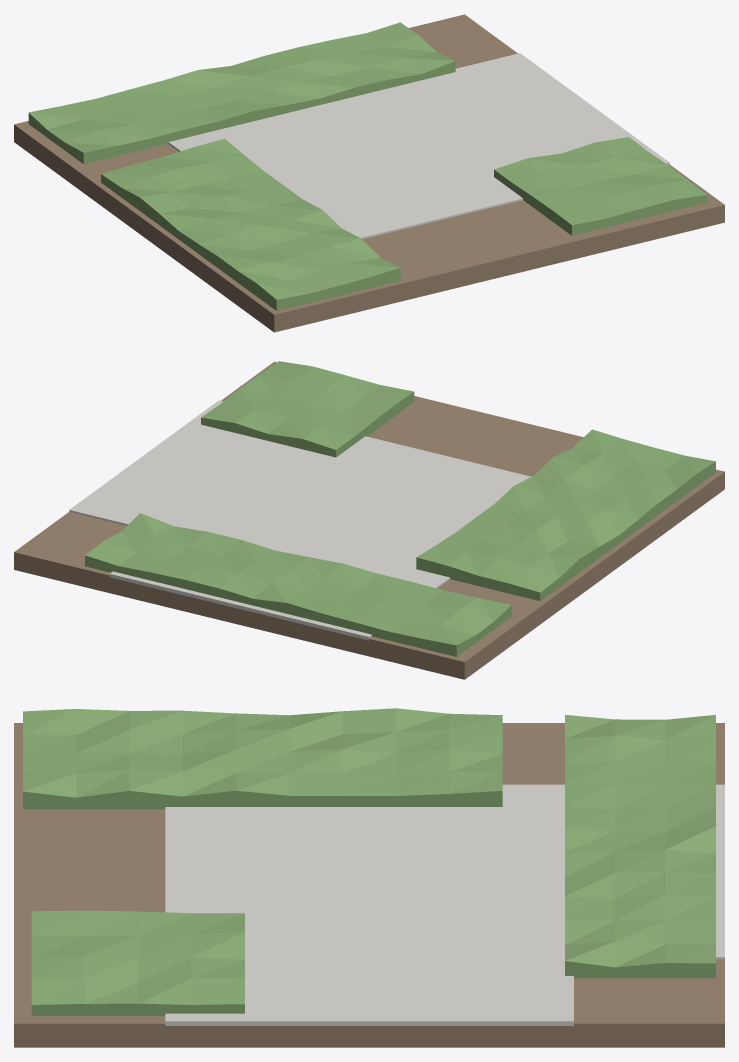
File: arable-fields-and-farm-machinery-farm-track-corner-915d3a14__16881.glb
3 renders of one model, top to bottom at view 1: azimuth 30°, elevation 25°; view 2: azimuth 150°, elevation 25°; view 3: azimuth 270°, elevation 25°, orthographic. The views are drawn at different scales.
Parts seen in each view (by area): view 1: farm-track-corner; view 2: farm-track-corner; view 3: farm-track-corner.
Boxes of the visible parts, x1,y1,x2,y2 form: farm-track-corner: (14,14,724,332); farm-track-corner: (14,361,724,679); farm-track-corner: (14,708,724,1047).
Bounding box in the file's own units: 8 × 0.536 × 8.
